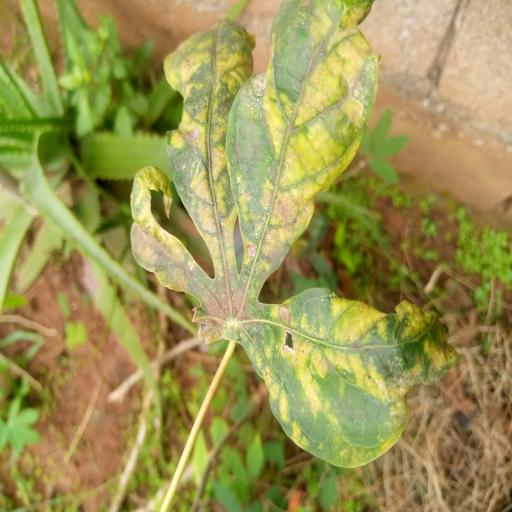Cassava_Mosaic: (128, 0, 419, 469)
